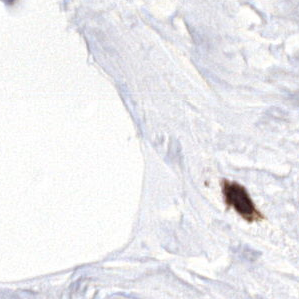Lymphocyte: (218, 177, 267, 225)
